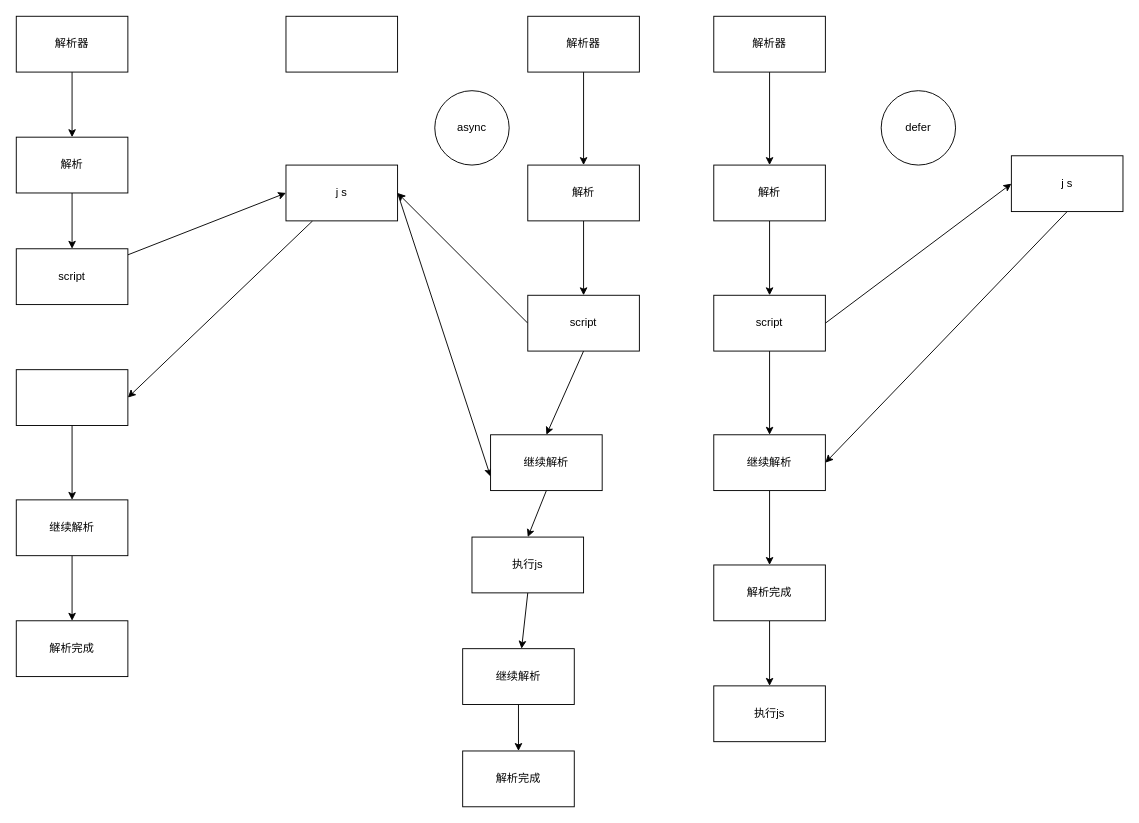
This 1139x823 diagram has some shape labels left out. Here are the shapes that lost their labels. From the top down, the centre of each, then its label:
At (x=341, y=43): "web serve".
At (x=71, y=397): "执行 js".
